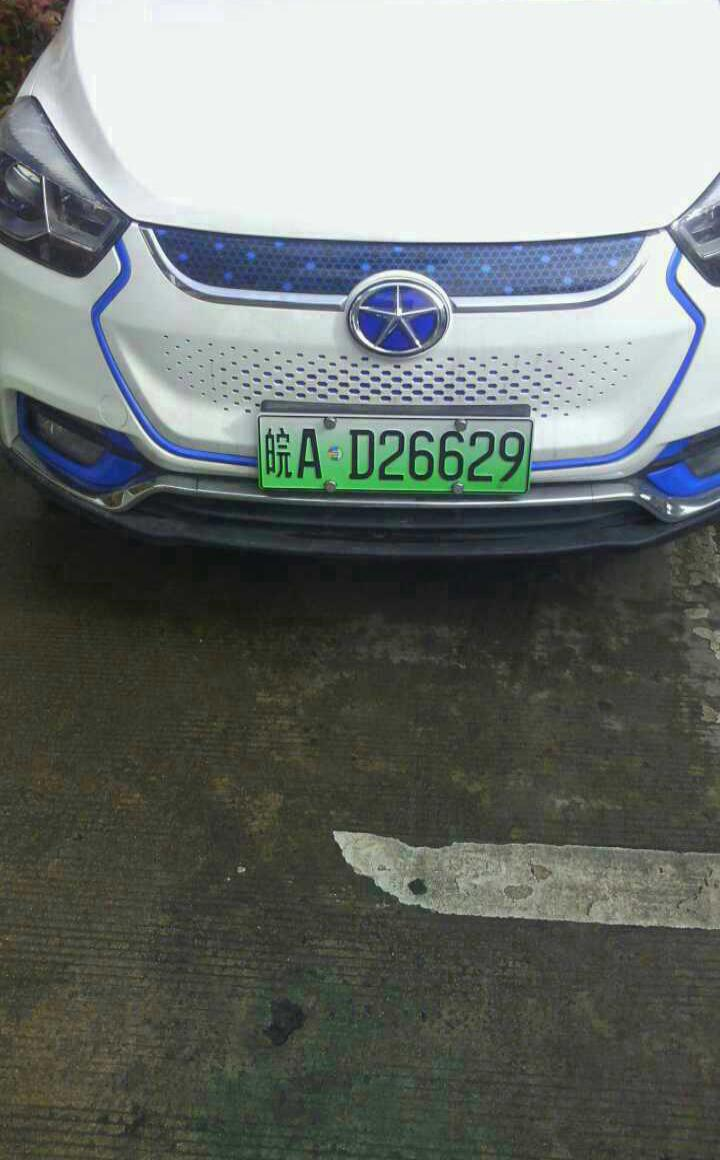car: (251, 399, 541, 498)
